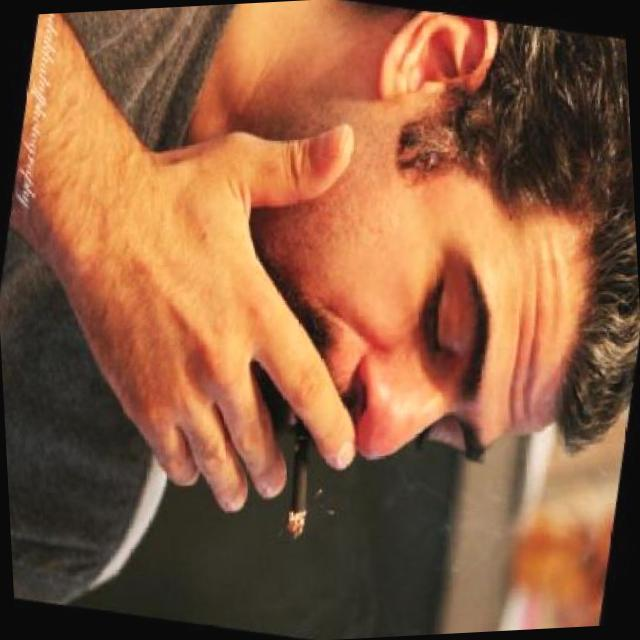smoke: (270, 403, 330, 550)
